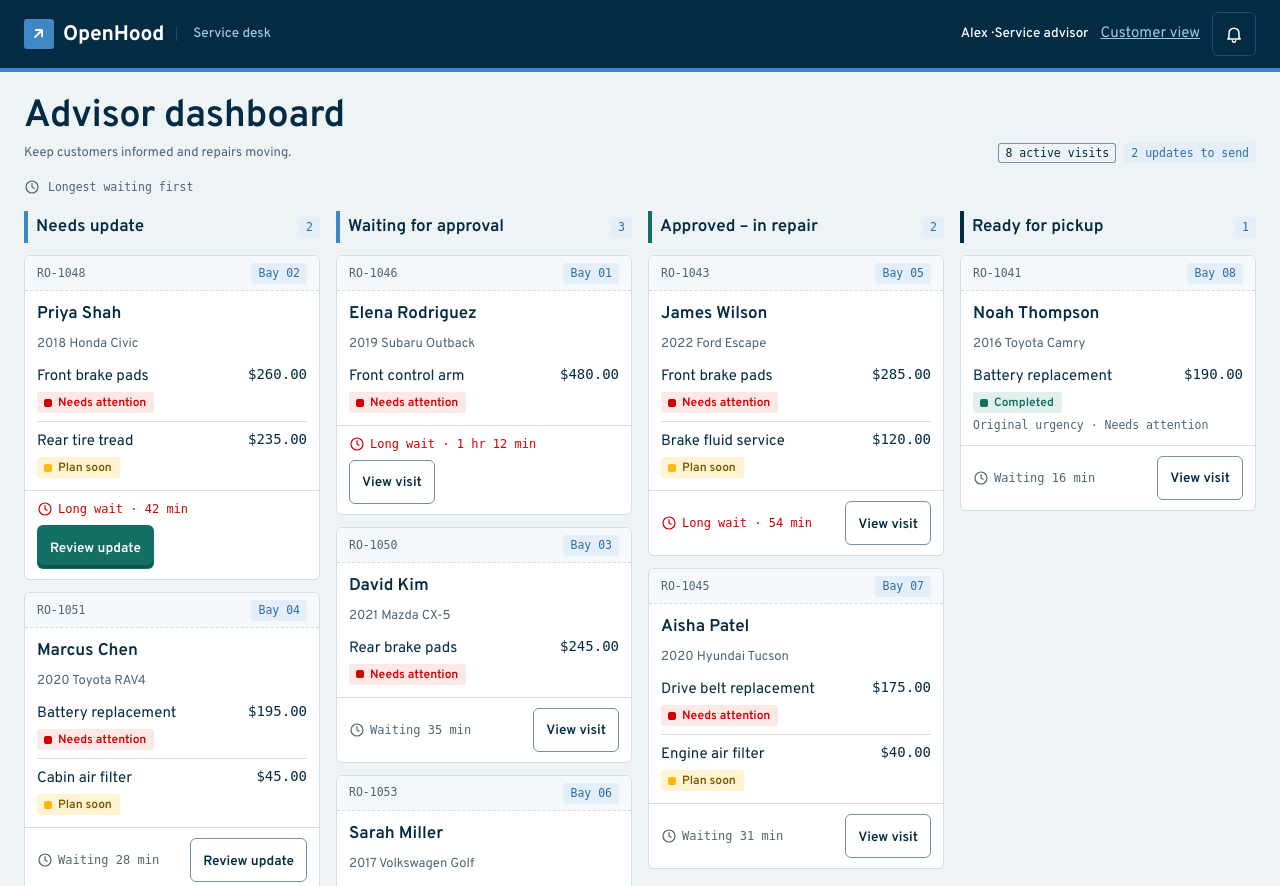
Scenario: sending an inspection update records delivery and moves the visit after reload
The width and height of the screenshot is (1280, 886).
Later steps or results of the test are not shown.
What coordinates should you click on to do the following:
click the link with aria-label "Review update for Marcus Chen"
I would click on:
 (249, 860)
Its box is [190,838,307,882].
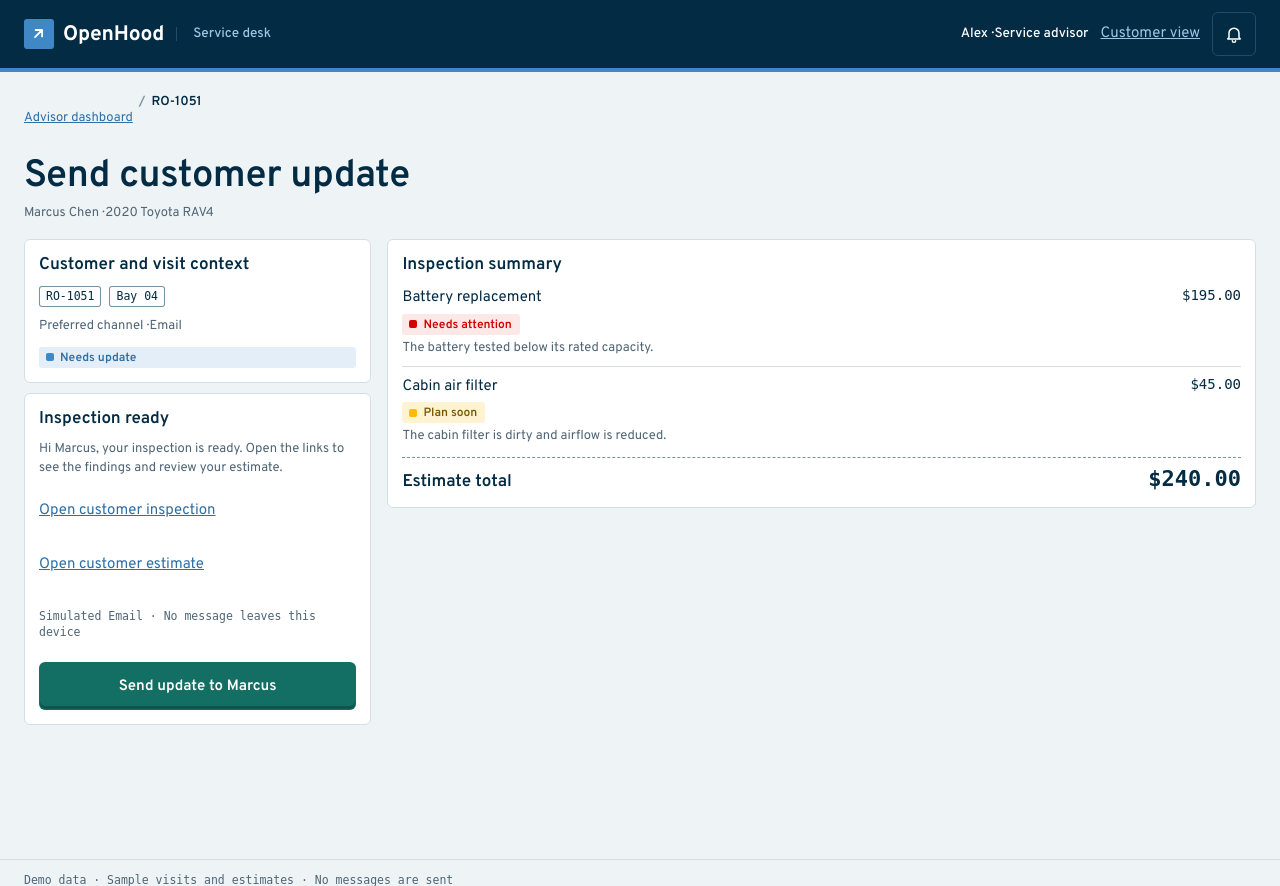
Check: the text "Alex · Service advisor" is shown, box [961,26,1088,42]
Check: the text "Preferred channel · Email" is shown, box [39,318,182,334]
What coordinates should you click on to do the following:
click the button "Send update to Marcus"
I would click on:
 (198, 686)
Its box is [39,662,356,710].
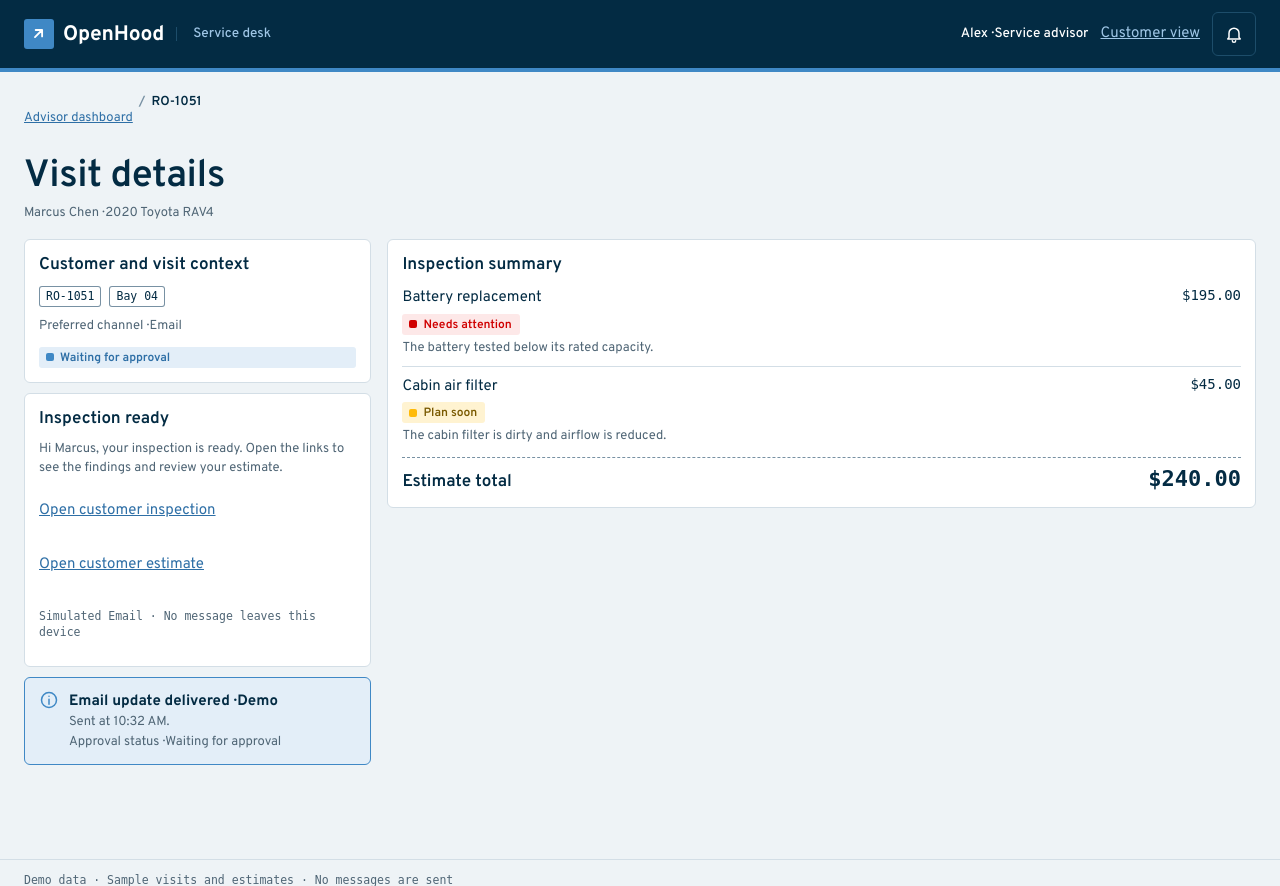
Check: the text "Email update delivered · Demo" is shown, box [69,692,278,711]
Check: the text "Sent at 10:32 AM." is shown, box [69,714,170,730]
Check: the text "Approval status · Waiting for approval" is shown, box [69,734,281,750]
What coordinates should you click on to do the following:
click the link "Open customer estimate"
I would click on:
 (122, 565)
Its box is [39,555,204,574].
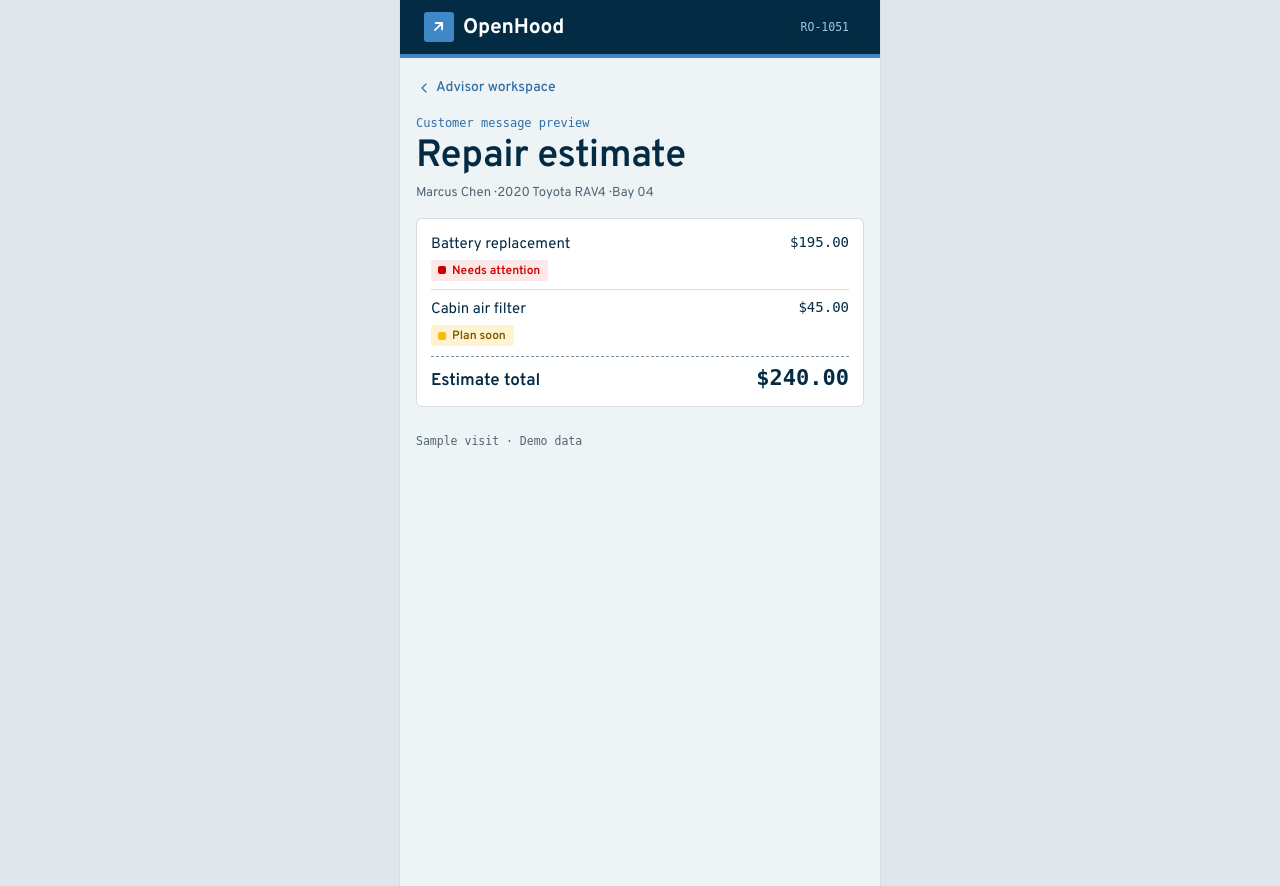
Check: the text "$240.00" is shown, box [756,367,849,389]
Check: the heading "Repair estimate" is shown, box [416,132,686,181]
Check: the text "Marcus Chen · 2020 Toyota RAV4 · Bay 04" is shown, box [416,185,654,201]
